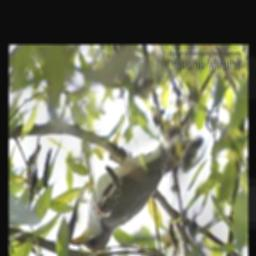Cuckoo: (67, 68, 214, 253)
